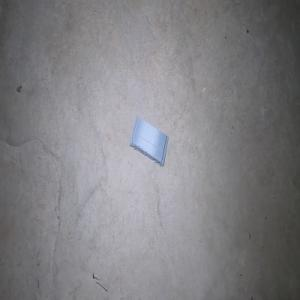PlasticPart: (129, 115, 168, 167)
